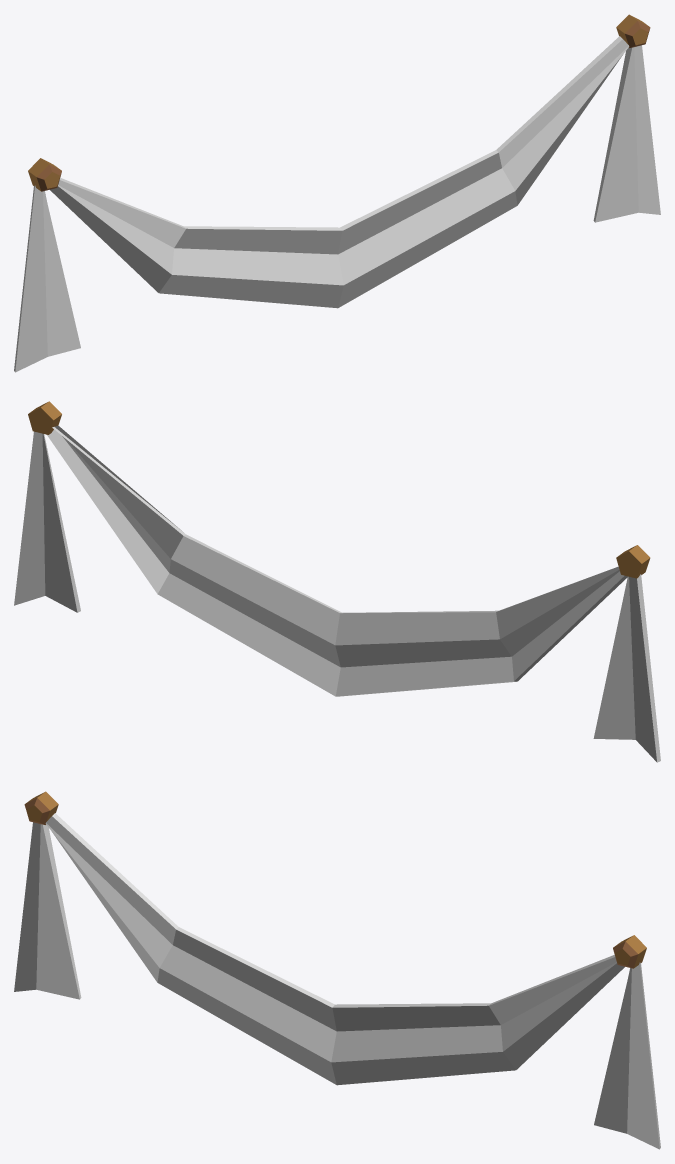
File: empire-hinge-big-empire.glb
3 renders of one model, top to bottom at view 1: azimuth 30°, elevation 25°; view 2: azimuth 150°, elevation 25°; view 3: azimuth 330°, elevation 25°, orthographic.
Parts seen in each view (by area): view 1: SM_Hinge_Big_Empire; view 2: SM_Hinge_Big_Empire; view 3: SM_Hinge_Big_Empire.
Boxes of the visible parts, left/top/right/bottom form: SM_Hinge_Big_Empire: left=14, top=14, right=660, bottom=372; SM_Hinge_Big_Empire: left=14, top=401, right=660, bottom=762; SM_Hinge_Big_Empire: left=14, top=791, right=660, bottom=1149.
Size of the model in its own units: 4.47 by 1.45 by 0.1393.
